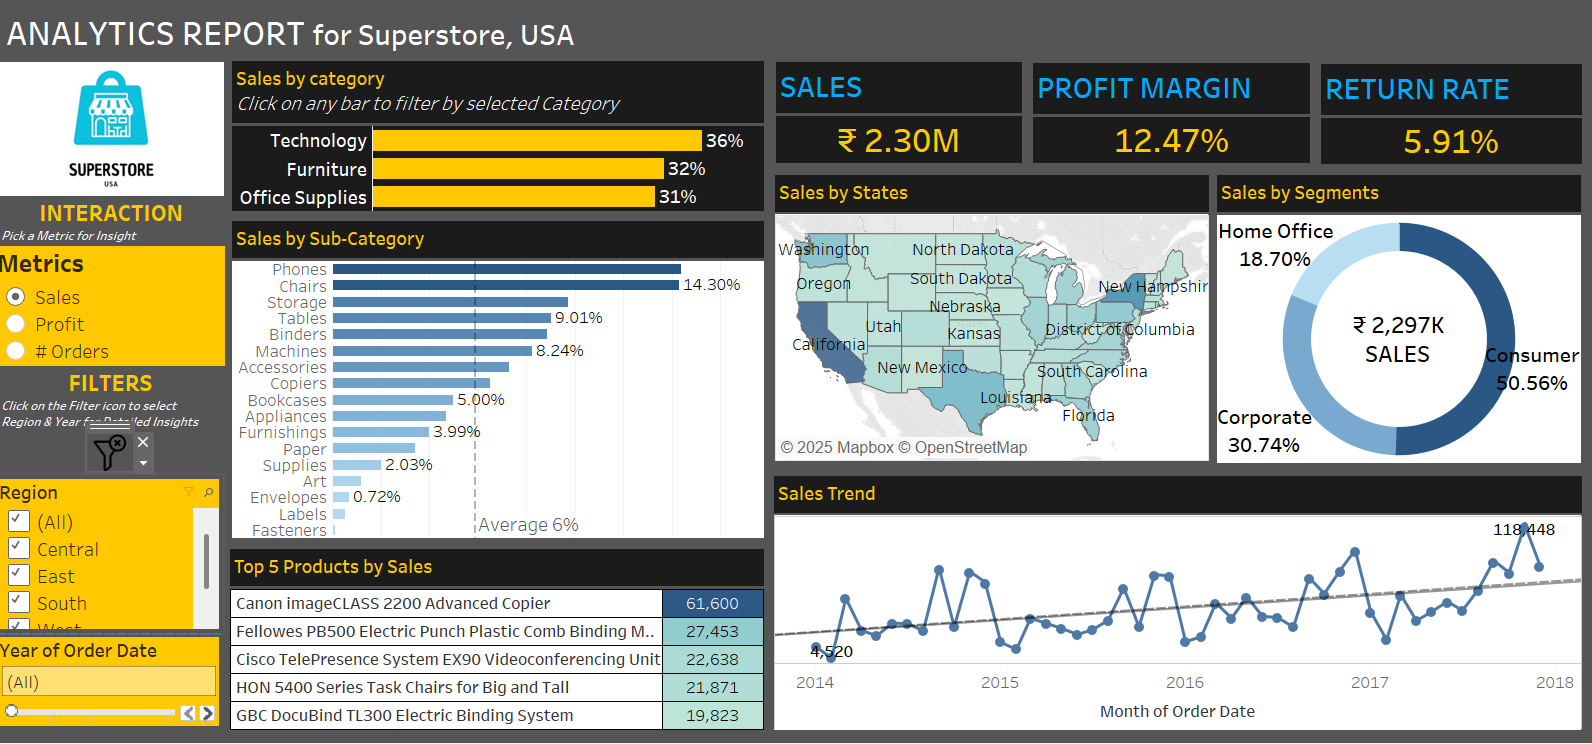

The dashboard page shown, as its layout file describes it:
{"tool":"tableau","page":{"name":"Dashboard 1","canvas":[1000,1000],"units":"permille","ordinal":0},"visuals":[{"type":"title","box":[5,10.7,990,69.7]},{"type":"image","param":"Image/Logo.jpg","box":[3.7,84.5,143.3,185]},{"type":"worksheet","title":"category","mark":"Automatic","rows":["Category"],"cols":["Calculation_207447079481032716"],"box":[151,85.8,331.9,201.1]},{"type":"worksheet","title":"KPI-1","mark":"Automatic","box":[490.3,87.1,153.5,135.4]},{"type":"worksheet","title":"KPI-2","mark":"Automatic","box":[650.4,88.5,173,134.1]},{"type":"worksheet","title":"KPI-3","mark":"Automatic","box":[830.1,89.8,162.6,134.1]},{"type":"worksheet","title":"Map","mark":"Automatic","box":[489.7,238.6,270.4,383.4]},{"type":"worksheet","title":"donut chart","mark":"Pie","rows":["Calculation_855683951076913152","Calculation_855683951076913152"],"box":[764.9,238.6,227.2,386.1]},{"type":"text","box":[5,268.1,140.9,41.6]},{"type":"worksheet","title":"sub-category","mark":"Automatic","rows":["Sub-Category"],"cols":["Calculation_207447079481032716"],"box":[150.9,300.3,331.7,424.9]},{"type":"text","box":[4.4,301.6,141.5,34.9]},{"type":"parameter","param":"[Parameters].[Parameter 3]","box":[4.4,333.8,142.1,160.9]},{"type":"text","box":[3.7,496,142.8,41.6]},{"type":"text","box":[4.4,522.8,140.3,71]},{"type":"dashboard-object","box":[60.5,585.8,28.7,49.6]},{"type":"filter","title":"Map","param":"[federated.0iuidca08g76ce15er6h111dx20f].[none:Region:nk]","box":[3.1,640.8,142.1,211.8]},{"type":"worksheet","title":"line chart","mark":"Automatic","rows":["Calculation_207447079481032716","Calculation_207447079481032716"],"cols":["Order Date"],"box":[489,642.1,503.7,340.5]},{"type":"worksheet","title":"table","mark":"Square","rows":["Product Name"],"box":[149.8,740,333.1,242.6]},{"type":"filter","title":"line chart","param":"[federated.0iuidca08g76ce15er6h111dx20f].[yr:Order Date:ok]","box":[3.1,852.5,142.1,130]}]}

Visuals, with their boxes on the dashboard's canvas, which has no fixed pixel size, in thousandths of its width and height (x1, y1, x2, y2). These are canvas units, not pixel positions in the 1592x744 screenshot, which may show the page scaled, cropped or inside an application window:
title: 5, 11, 995, 80
image: 4, 84, 147, 270
"category" worksheet: 151, 86, 483, 287
"KPI-1" worksheet: 490, 87, 644, 222
"KPI-2" worksheet: 650, 88, 823, 223
"KPI-3" worksheet: 830, 90, 993, 224
"Map" worksheet: 490, 239, 760, 622
"donut chart" worksheet (Pie marks): 765, 239, 992, 625
text: 5, 268, 146, 310
"sub-category" worksheet: 151, 300, 483, 725
text: 4, 302, 146, 336
parameter: 4, 334, 146, 495
text: 4, 496, 146, 538
text: 4, 523, 145, 594
dashboard-object: 60, 586, 89, 635
"Map" filter: 3, 641, 145, 853
"line chart" worksheet: 489, 642, 993, 983
"table" worksheet (Square marks): 150, 740, 483, 983
"line chart" filter: 3, 852, 145, 982
